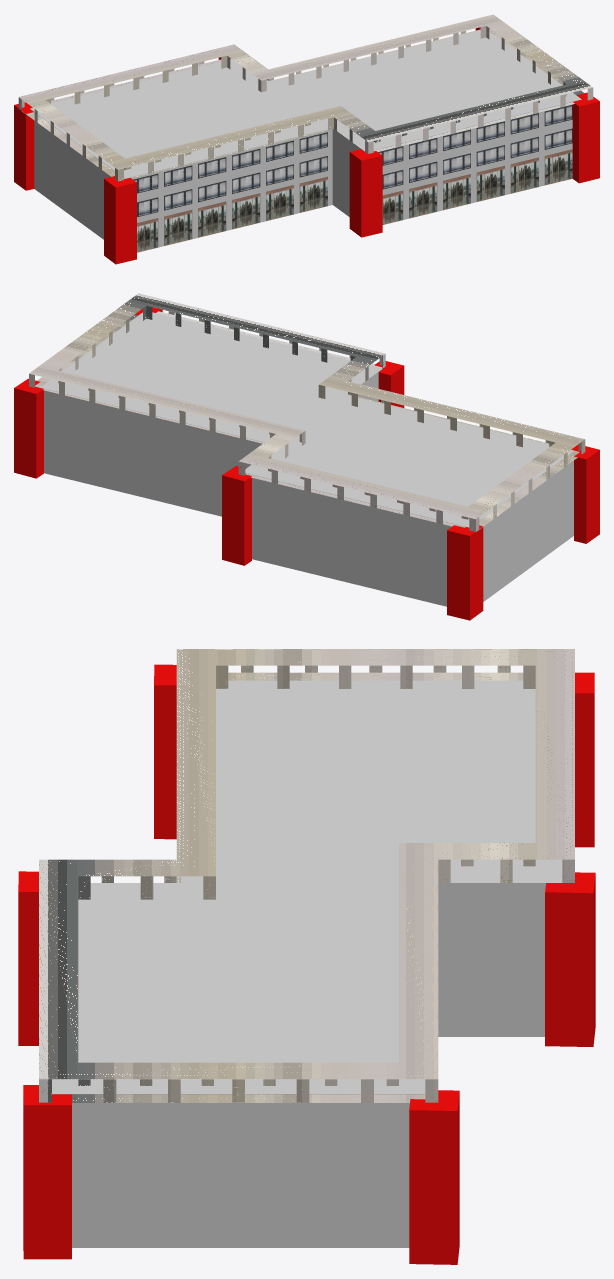
Rendered from bailongshanshitang.fbx.
The picture shows the model from 3 angles, top to bottom: view 1: azimuth 30°, elevation 25°; view 2: azimuth 150°, elevation 25°; view 3: azimuth 270°, elevation 25°; orthographic projection. The views are drawn at different scales.
Parts seen in each view (by area): view 1: CityEngineShapeMaterial_1_m, CityEngineShapeMaterial_m, CityEngineShapeMaterial_3_m, CityEngineShapeMaterial_2_m, CityEngineMaterial_m; view 2: CityEngineShapeMaterial_1_m, CityEngineShapeMaterial_m, CityEngineMaterial_m; view 3: CityEngineShapeMaterial_1_m, CityEngineShapeMaterial_m, CityEngineMaterial_m.
Boxes of the visible parts, x1,y1,x2,y2 form: CityEngineShapeMaterial_1_m: [30, 30, 581, 247]; CityEngineShapeMaterial_m: [18, 14, 593, 181]; CityEngineShapeMaterial_3_m: [133, 105, 572, 216]; CityEngineShapeMaterial_2_m: [137, 149, 572, 252]; CityEngineMaterial_m: [14, 27, 599, 264]; CityEngineShapeMaterial_1_m: [40, 312, 574, 606]; CityEngineShapeMaterial_m: [29, 293, 585, 532]; CityEngineMaterial_m: [14, 307, 599, 620]; CityEngineShapeMaterial_1_m: [52, 680, 562, 1247]; CityEngineShapeMaterial_m: [39, 649, 574, 1102]; CityEngineMaterial_m: [18, 664, 595, 1264].
Size of the model in its own units: 80.85 by 14.97 by 44.2.
